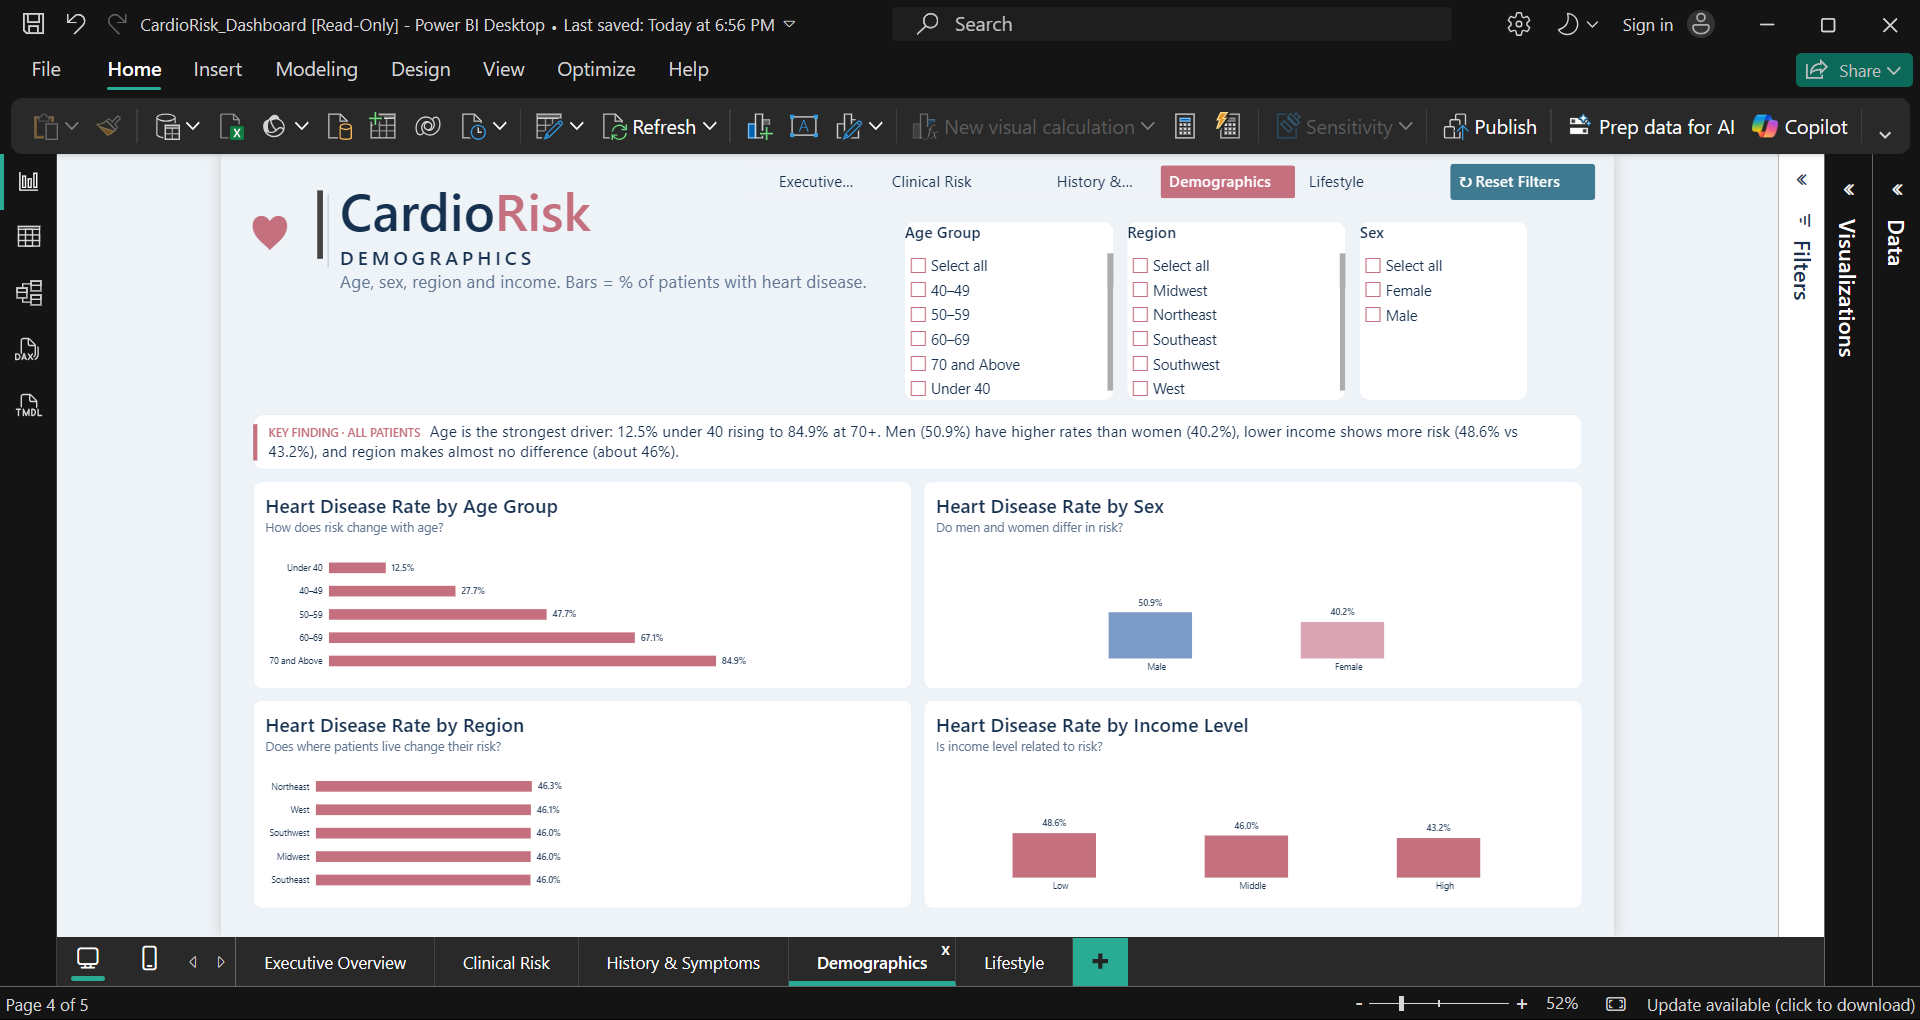

What the dashboard file says about the page in this screenshot:
{"tool":"powerbi","page":{"name":"Demographics","canvas":[1920,1080],"ordinal":3},"visuals":[{"type":"textbox","box":[40,50,100,100],"z":900},{"type":"textbox","box":[146,56,2,100],"z":901},{"type":"textbox","box":[164.3,28.1,758.8,240],"z":1000},{"type":"textbox","box":[44,359,1832,76],"z":1100},{"type":"textbox","box":[44,372,6,50],"z":1101},{"type":"textbox","box":[66,366,1790,64],"z":1102},{"type":"clusteredBarChart","title":"Heart Disease Rate by Age Group","fields":{"Category":["heart_disease_clean.Age Group"],"Y":["heart_disease_clean.Heart Disease Rate by Age Group"]},"box":[44,451,908,286],"z":3000},{"type":"clusteredColumnChart","title":"Heart Disease Rate by Sex","fields":{"Category":["heart_disease_clean.sex"],"Y":["heart_disease_clean.Heart Disease Rate by Gender"]},"box":[968,451,908,286],"z":3001},{"type":"clusteredBarChart","title":"Heart Disease Rate by Region","fields":{"Category":["heart_disease_clean.region"],"Y":["heart_disease_clean.Heart Disease Rate by Region"]},"box":[44,753,908,287],"z":3002},{"type":"clusteredColumnChart","title":"Heart Disease Rate by Income Level","fields":{"Category":["heart_disease_clean.income_level"],"Y":["heart_disease_clean.Heart Disease Rate by Income Level"]},"box":[968,753,908,287],"z":3003},{"type":"actionButton","box":[720,16,186,46],"z":12000},{"type":"actionButton","box":[912,16,186,46],"z":12000},{"type":"actionButton","box":[1104,16,186,46],"z":12000},{"type":"actionButton","box":[1296,16,186,46],"z":12000},{"type":"actionButton","box":[1488,16,186,46],"z":12000},{"type":"slicer","title":"Age Group","fields":{"Values":["heart_disease_clean.Age Group"]},"box":[942,92,289,247],"z":12200},{"type":"slicer","title":"Region","fields":{"Values":["heart_disease_clean.region"]},"box":[1248,92,302,247],"z":12201},{"type":"slicer","title":"Sex","fields":{"Values":["heart_disease_clean.sex"]},"box":[1569,92,232,247],"z":12202},{"type":"actionButton","box":[1694,14,200,50],"z":12300}]}

Visuals, with their boxes on the page's 1920x1080 design canvas (x1, y1, x2, y2). These are canvas units, not pixel positions in the 1920x1020 screenshot, which may show the page scaled, cropped or inside an application window:
textbox: [40,50,140,150]
textbox: [146,56,148,156]
textbox: [164,28,923,268]
textbox: [44,359,1876,435]
textbox: [44,372,50,422]
textbox: [66,366,1856,430]
"Heart Disease Rate by Age Group" clusteredBarChart: [44,451,952,737]
"Heart Disease Rate by Sex" clusteredColumnChart: [968,451,1876,737]
"Heart Disease Rate by Region" clusteredBarChart: [44,753,952,1040]
"Heart Disease Rate by Income Level" clusteredColumnChart: [968,753,1876,1040]
actionButton: [720,16,906,62]
actionButton: [912,16,1098,62]
actionButton: [1104,16,1290,62]
actionButton: [1296,16,1482,62]
actionButton: [1488,16,1674,62]
"Age Group" slicer: [942,92,1231,339]
"Region" slicer: [1248,92,1550,339]
"Sex" slicer: [1569,92,1801,339]
actionButton: [1694,14,1894,64]
